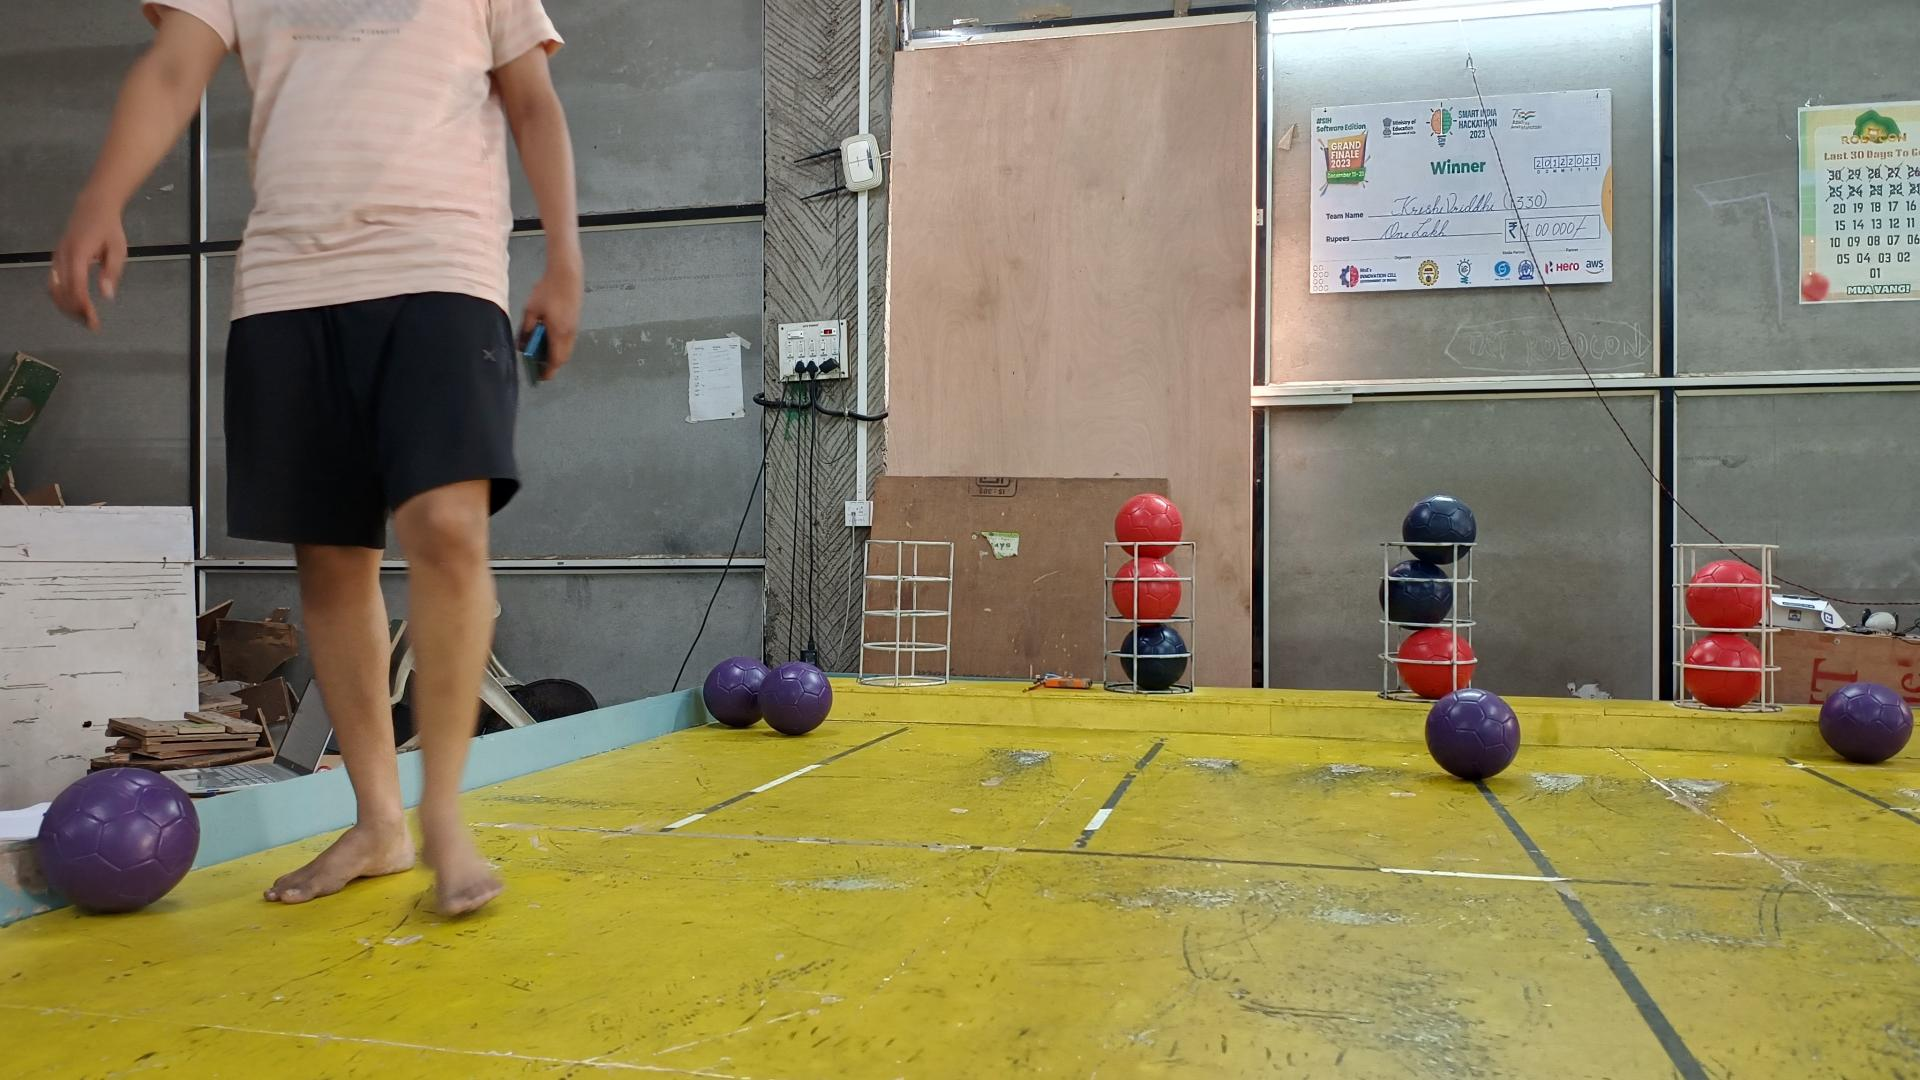dhoka: (1403, 495, 1477, 563), (1379, 559, 1452, 622), (1121, 622, 1188, 690)
laale: (1684, 634, 1763, 708), (1684, 559, 1763, 630), (1399, 626, 1474, 698), (1110, 555, 1182, 622), (1114, 495, 1182, 559)
